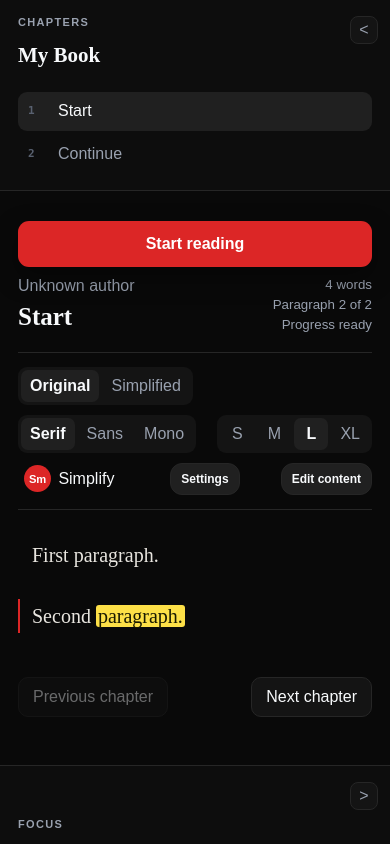
Test: reader desktop shell › resumes focus at the saved paragraph and word
Click the button "Start reading": click(195, 244) [18, 221, 372, 267]
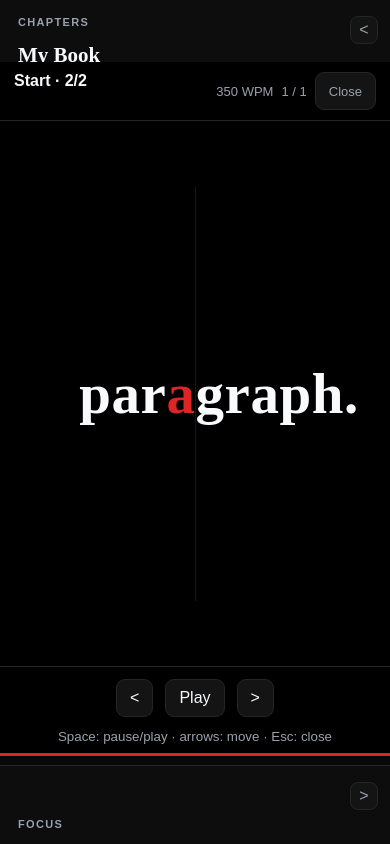
Check: the text "Start · 2/2" is shown, box [14, 72, 87, 90]
